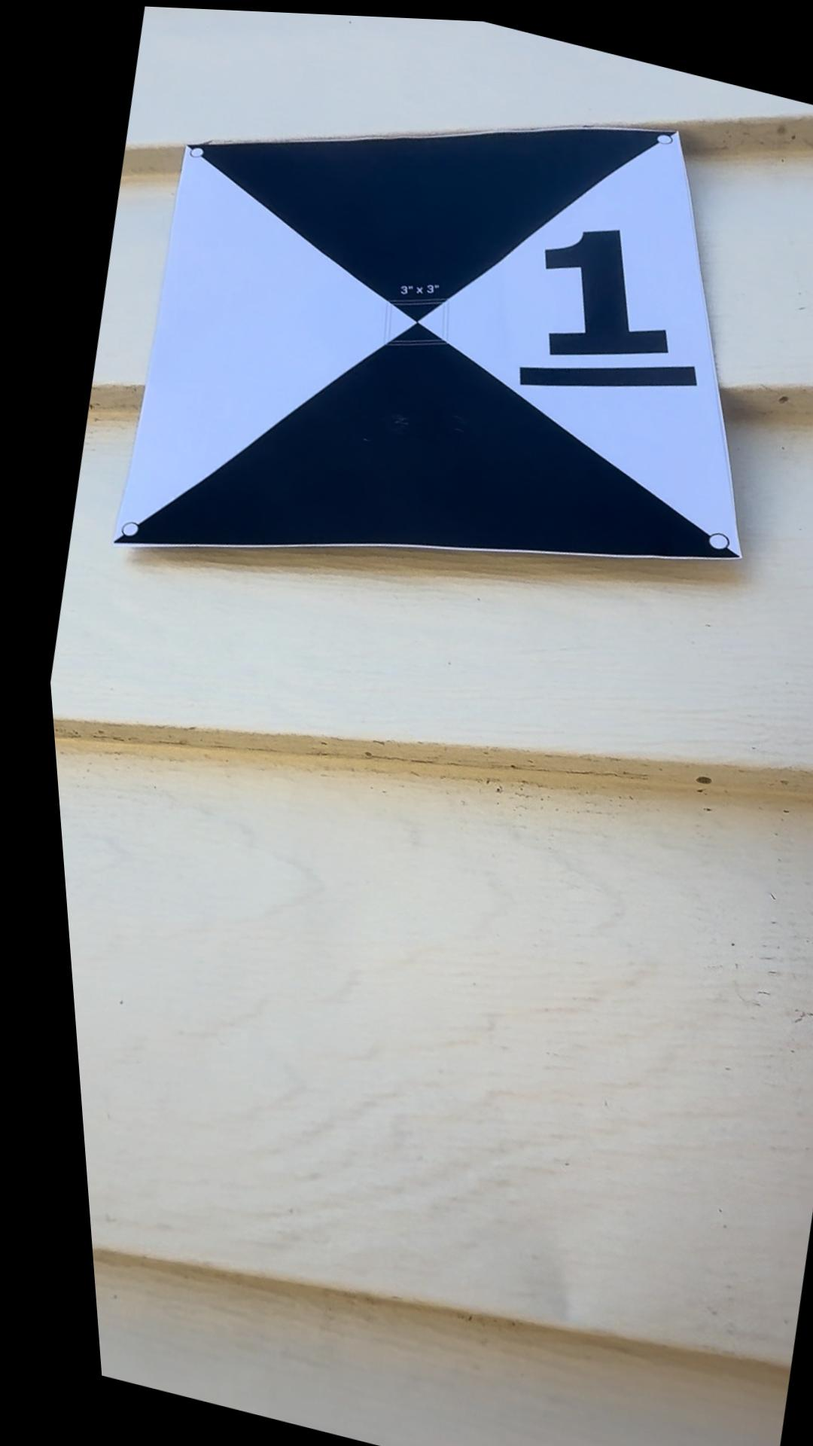target1: (103, 110, 773, 564)
